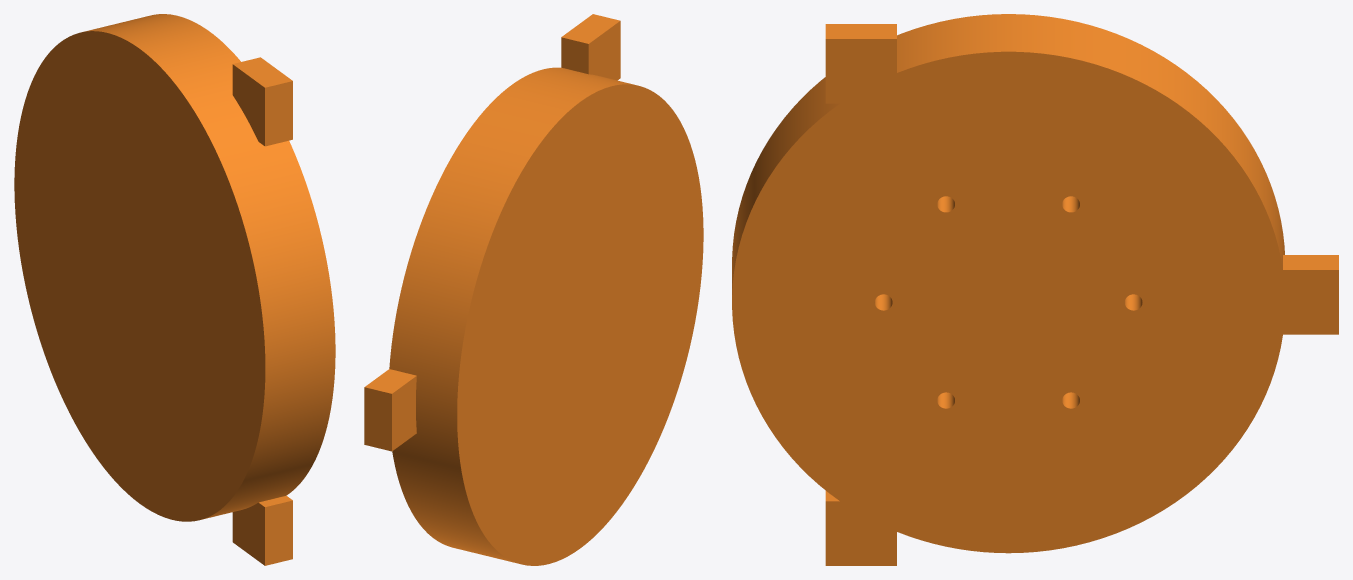
File: flange.glb
The picture shows the model from 3 angles, left to right: view 1: azimuth 30°, elevation 25°; view 2: azimuth 150°, elevation 25°; view 3: azimuth 270°, elevation 25°; orthographic projection. The views are drawn at different scales.
Parts seen in each view (by area): view 1: tool changer, arm side (printed); view 2: tool changer, arm side (printed); view 3: tool changer, arm side (printed).
Part boxes in pixels (left/top/right/bottom): tool changer, arm side (printed): left=14, top=14, right=335, bottom=565; tool changer, arm side (printed): left=364, top=14, right=703, bottom=565; tool changer, arm side (printed): left=732, top=14, right=1338, bottom=565.
Size of the model in its own units: 0.01 by 0.0652 by 0.068.
